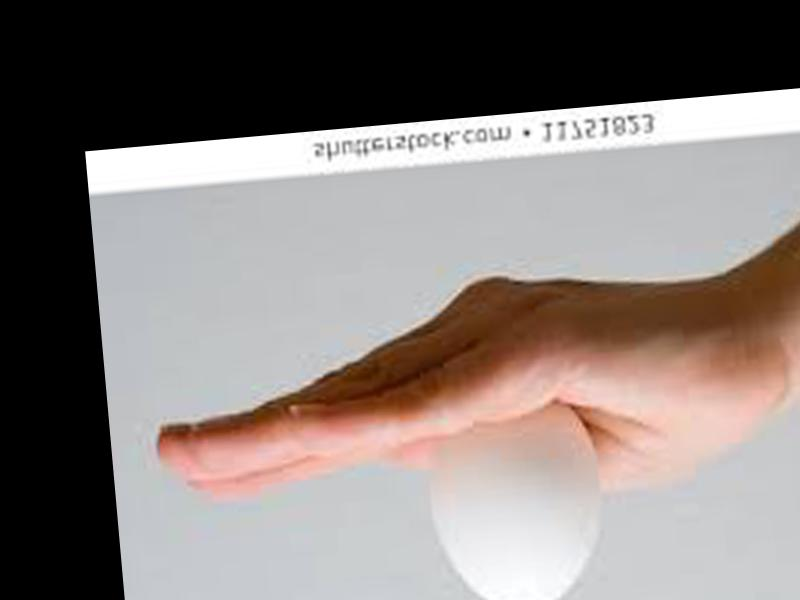Eggs: (423, 398, 601, 600)
